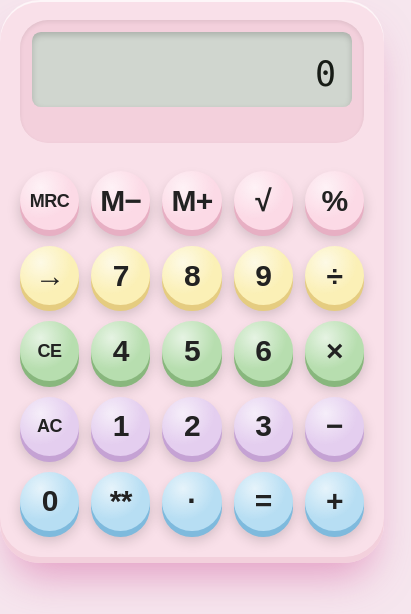
Scenario: <Calculator /> › computes a result from button clicks
Step 1. Click the button "1" → click(121, 426), box [91,397,150,456]
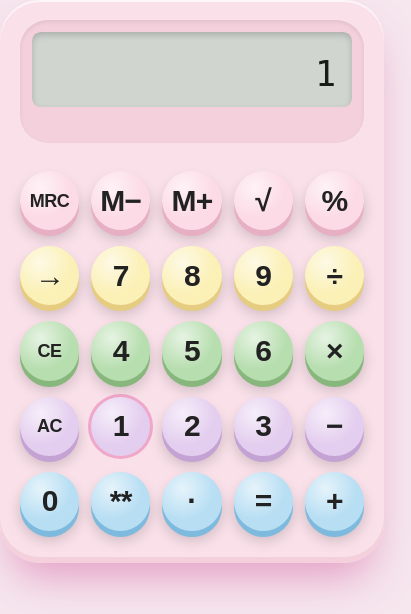
Step 2. Click the button "2" → click(192, 426), box [162,397,222,456]
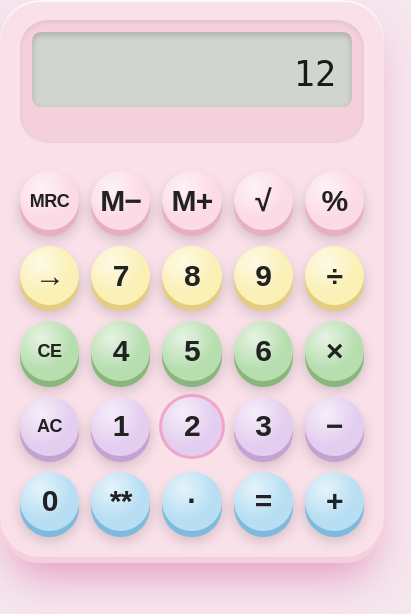
Step 3. Click the button named "Add" → click(334, 501), box [305,472,364,531]
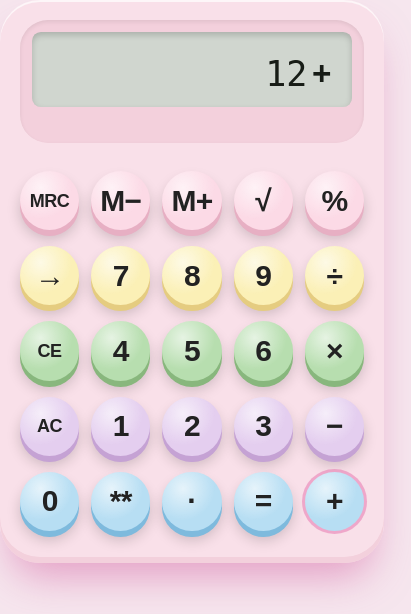
Step 4. Click the button "3" → click(263, 426), box [234,397,293,456]
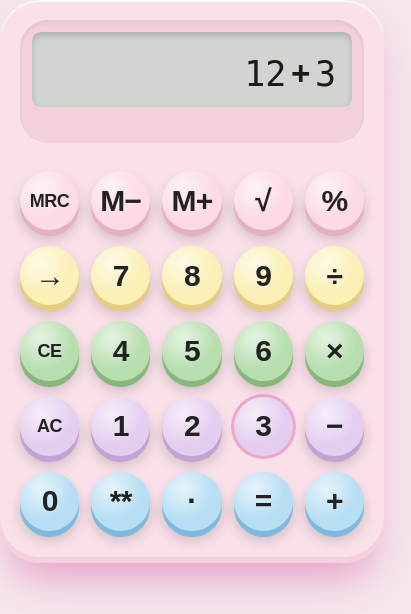
Step 5. Click the button named "Equals" → click(263, 501), box [234,472,293,531]
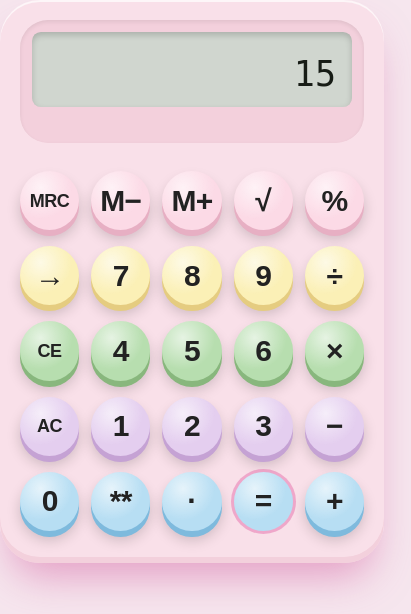
Check: the text named "Display" reads "15", box [294,53,336,94]
